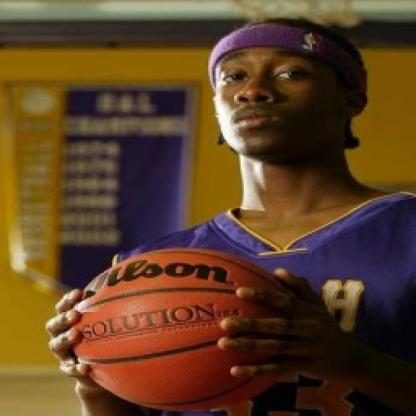basketball: (79, 249, 270, 416)
